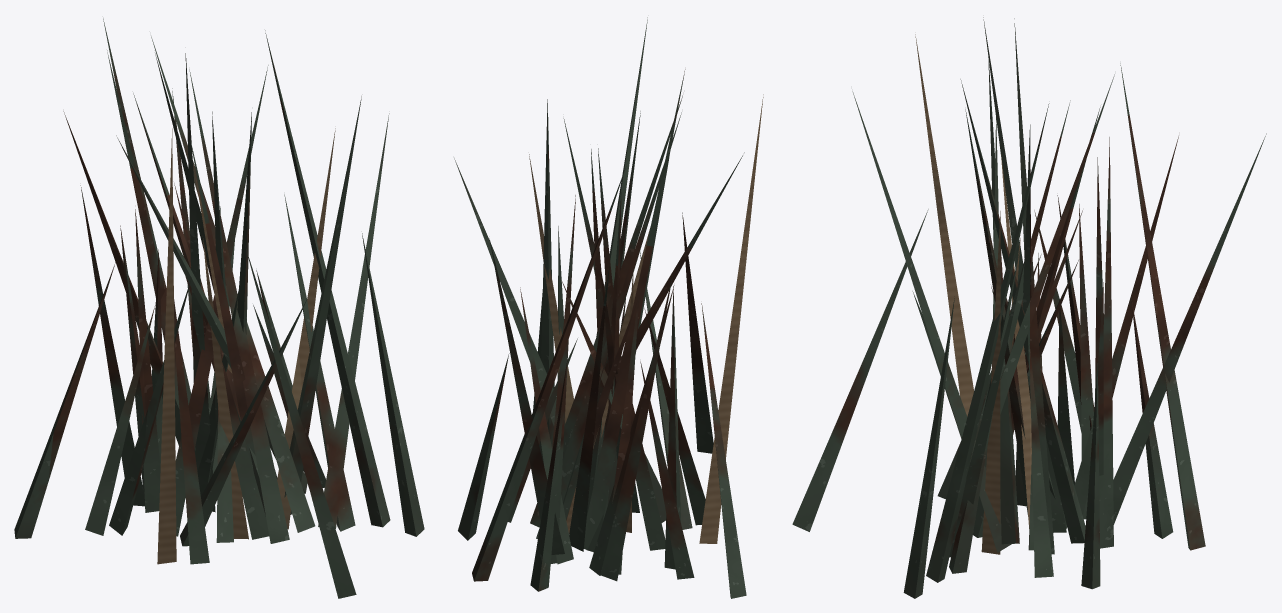
Rendered from NT03_tall_grass_clump_v1.glb.
3 renders of one model, left to right at view 1: azimuth 30°, elevation 25°; view 2: azimuth 150°, elevation 25°; view 3: azimuth 270°, elevation 25°, orthographic. The views are drawn at different scales.
Visible parts, largest first — view 1: NT03_tall_grass_clump_v1; view 2: NT03_tall_grass_clump_v1; view 3: NT03_tall_grass_clump_v1.
Part boxes in pixels (bbox=[...]): NT03_tall_grass_clump_v1: bbox=[14, 18, 424, 598]; NT03_tall_grass_clump_v1: bbox=[454, 17, 763, 598]; NT03_tall_grass_clump_v1: bbox=[792, 17, 1266, 598].
Size of the model in its own units: 0.7083 by 1 by 0.8753.
2 materials, 2 textured.
